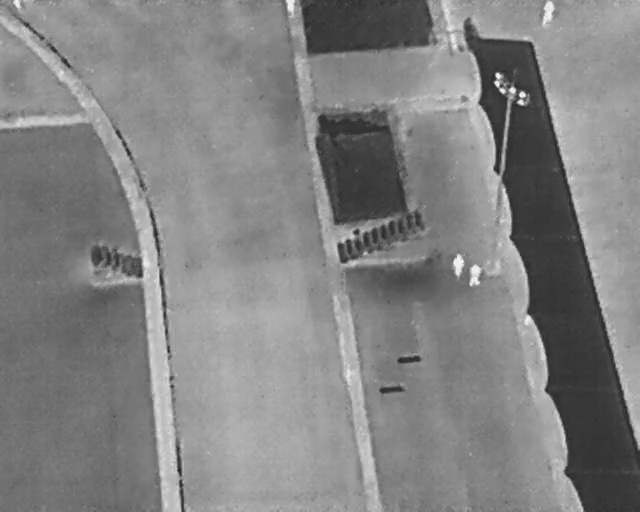Person: (540, 0, 556, 27), (451, 251, 465, 279), (468, 263, 482, 287), (13, 0, 22, 12)
